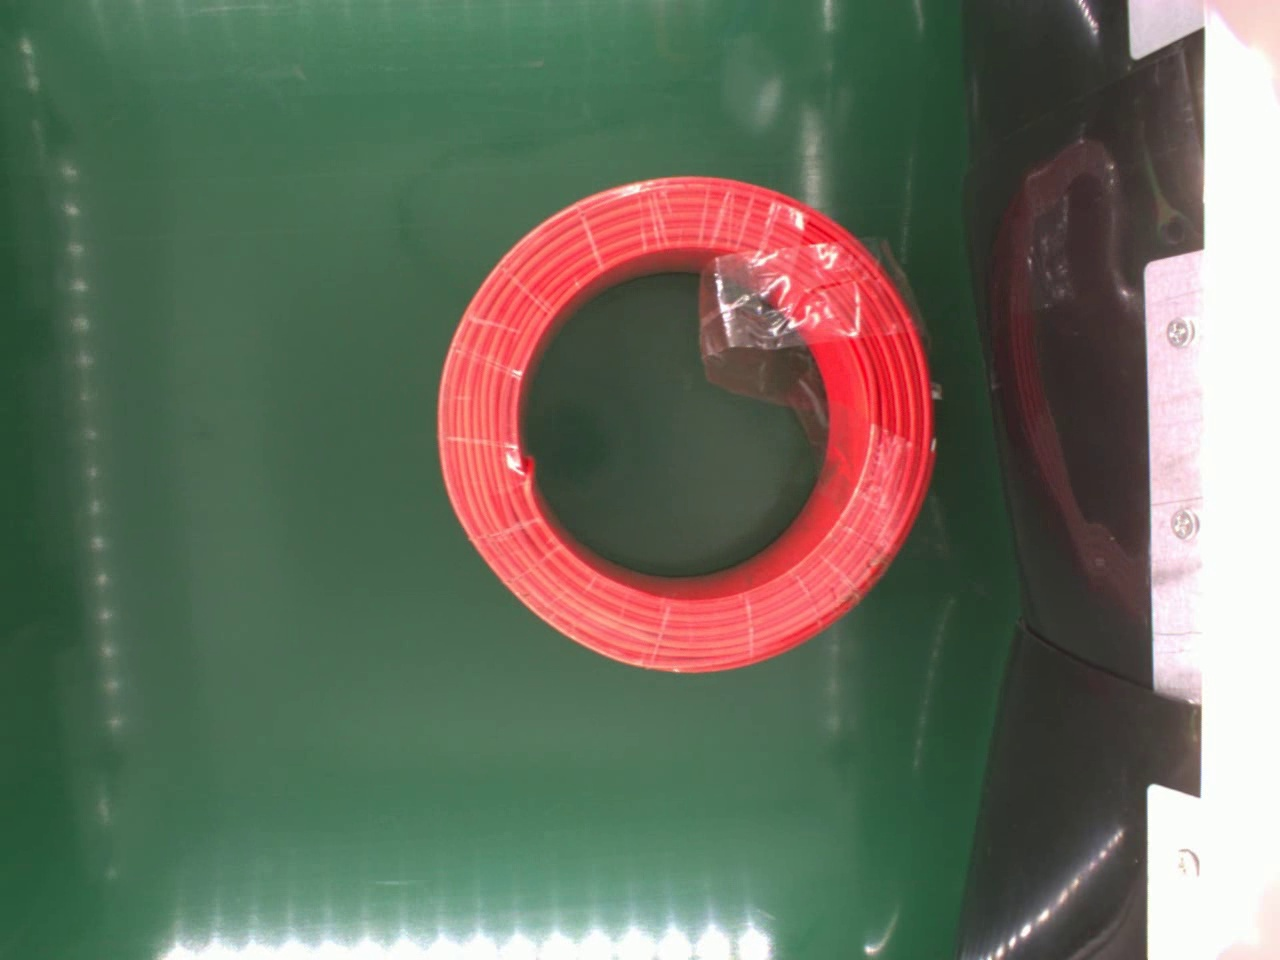red: (435, 173, 940, 670)
